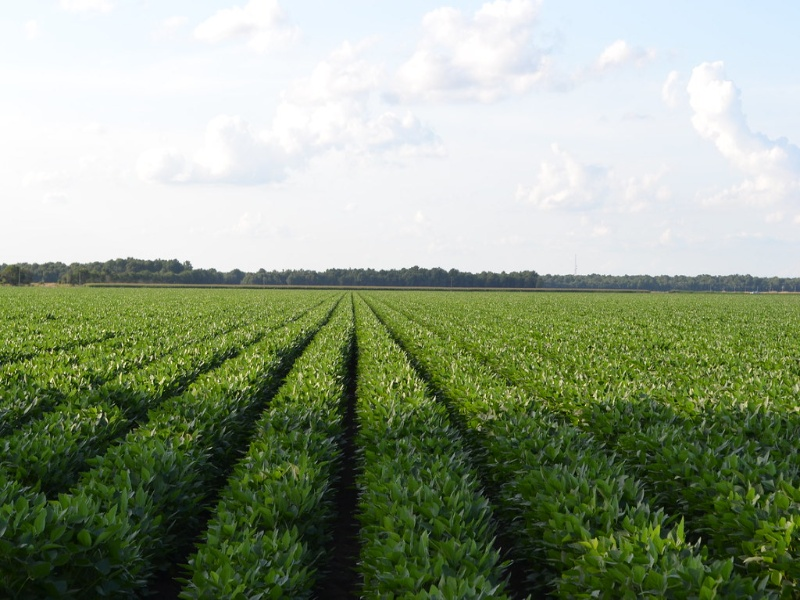soyabean: (636, 375, 795, 588), (529, 477, 717, 592), (369, 490, 498, 593), (194, 492, 324, 593), (483, 397, 612, 478), (9, 493, 148, 566), (355, 401, 476, 484), (7, 358, 133, 420), (246, 416, 335, 487), (110, 435, 219, 477), (172, 386, 227, 432)
